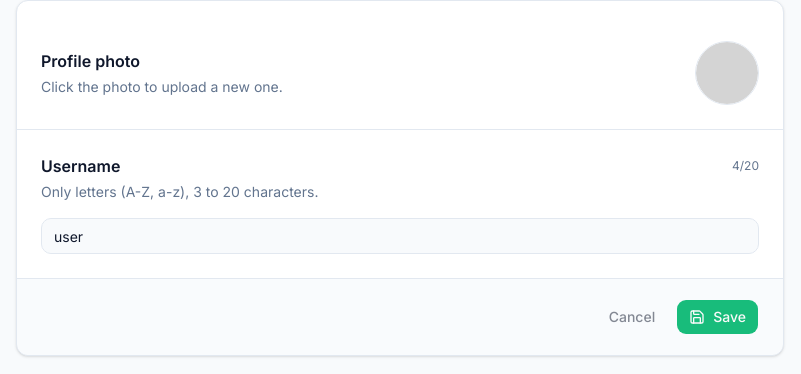
Test: ProfileCard › should reset username to original value when Cancel is clicked
Replace the text in the field labelled "Username" with "Carlos" at (400, 236), box [41, 218, 759, 254]
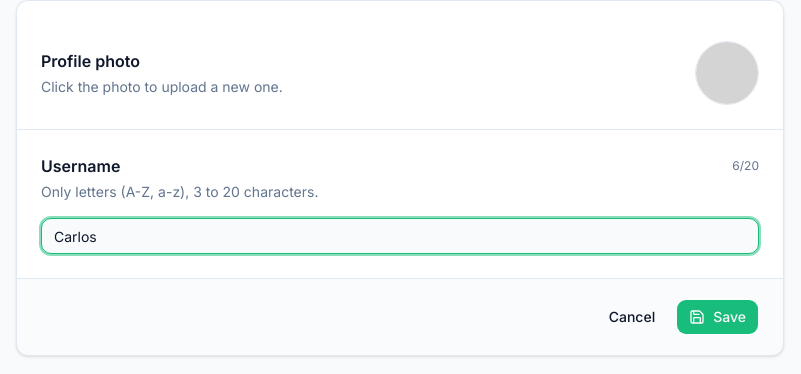
Click the button "Cancel".
click(632, 317)  # box [596, 299, 668, 335]
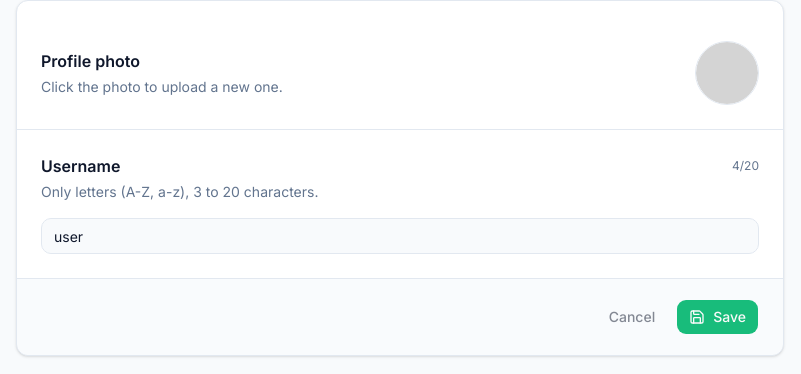
Expected: the field labelled "Username" holds "user", [41, 218, 759, 254]
